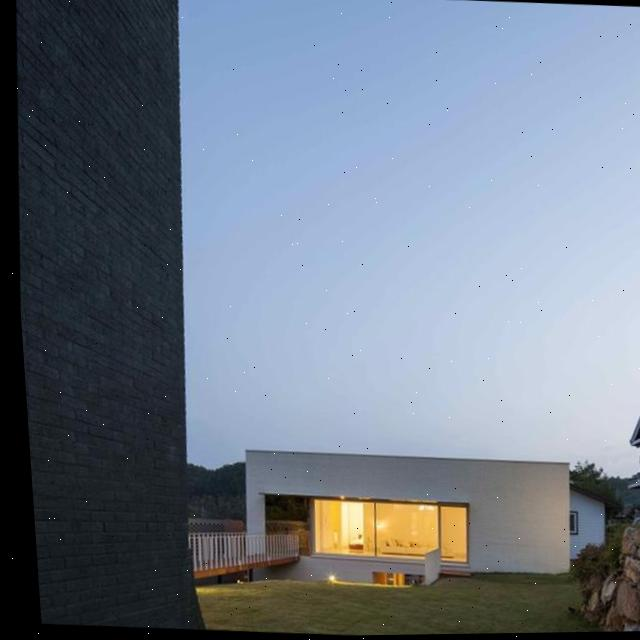building: (0, 0, 224, 631), (240, 442, 577, 594), (561, 473, 614, 559), (614, 386, 640, 533)
